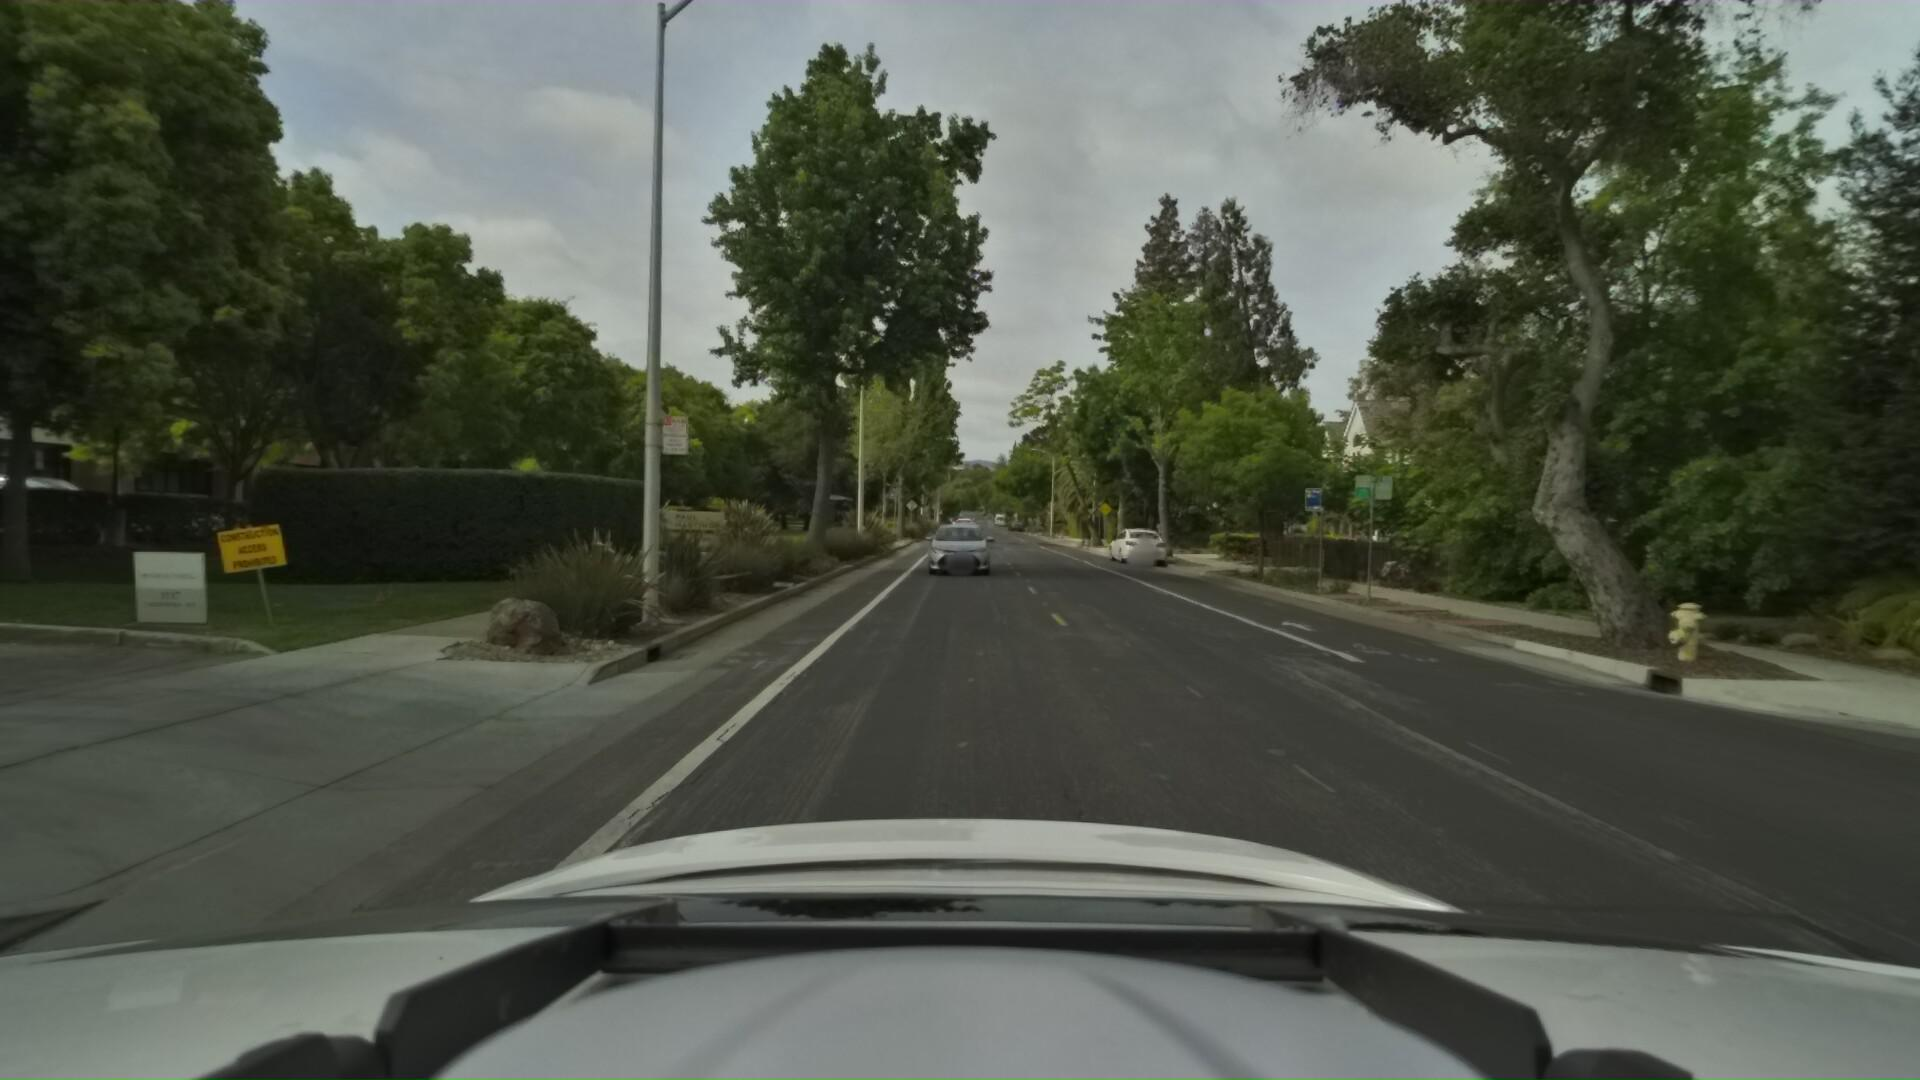car: (924, 518, 996, 574), (1102, 524, 1164, 563), (953, 516, 986, 545)
